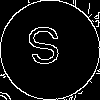S: (25, 25, 64, 75)
